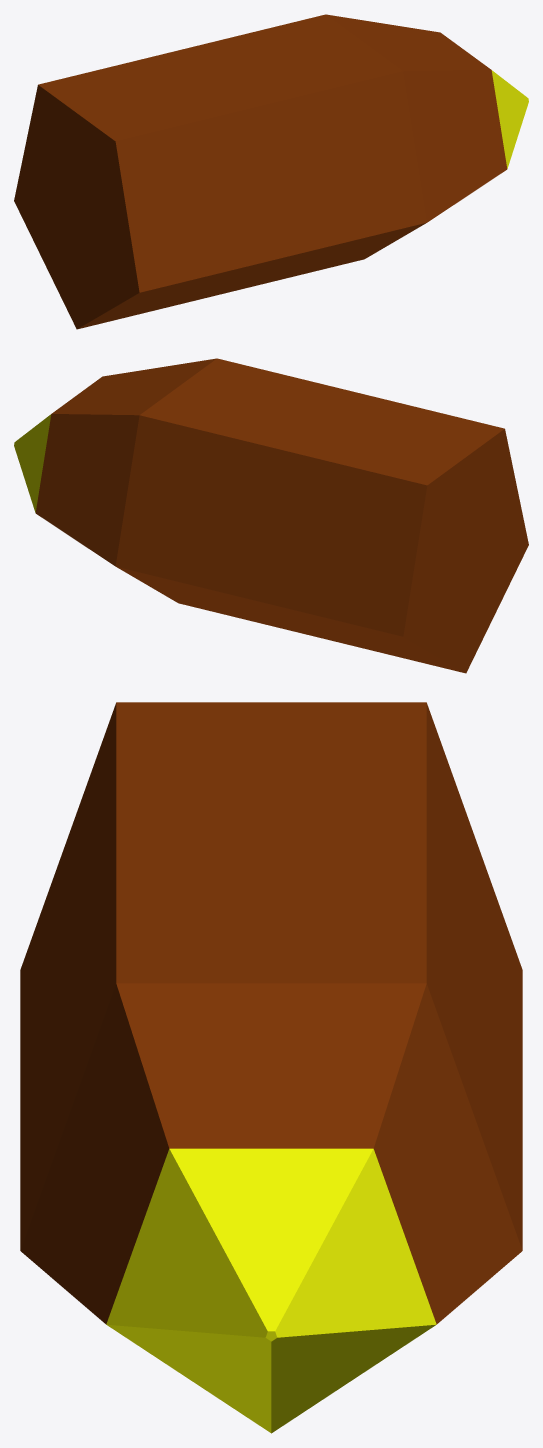
Rendered from Winchester bullet yellow.FBX.
3 views of the same model, one above another, from view 1: azimuth 30°, elevation 25°; view 2: azimuth 150°, elevation 25°; view 3: azimuth 270°, elevation 25° (orthographic). The views are drawn at different scales.
Parts seen in each view (by area): view 1: Bullet, Bullet tip; view 2: Bullet, Bullet tip; view 3: Bullet, Bullet tip.
Boxes of the visible parts, x1,y1,x2,y2 form: Bullet: (14,14,507,329); Bullet tip: (491,70,528,168); Bullet: (35,358,528,673); Bullet tip: (14,414,51,512); Bullet: (20,702,522,1324); Bullet tip: (106,1148,436,1433).
Bounding box in the file's own units: 9.68 × 4.44 × 4.67.
